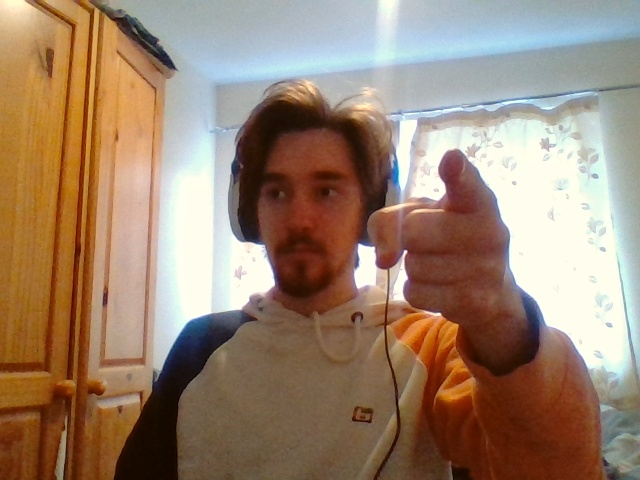you: (368, 148, 512, 320)
